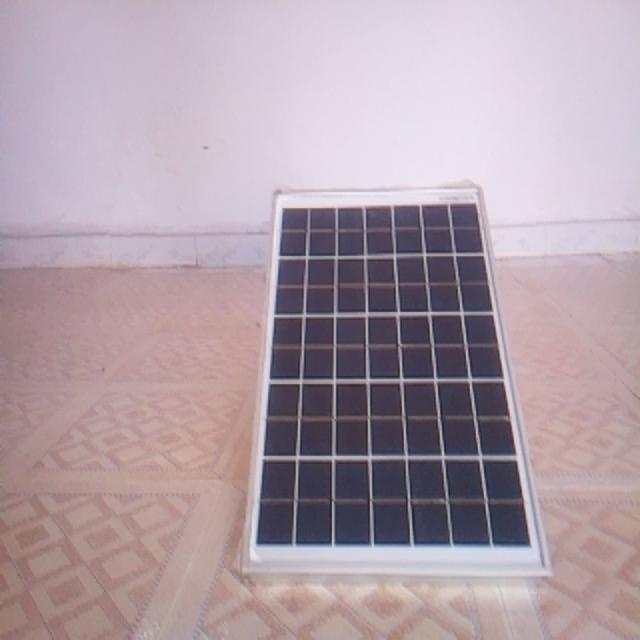Normal Solar Panel: (245, 183, 551, 575)
